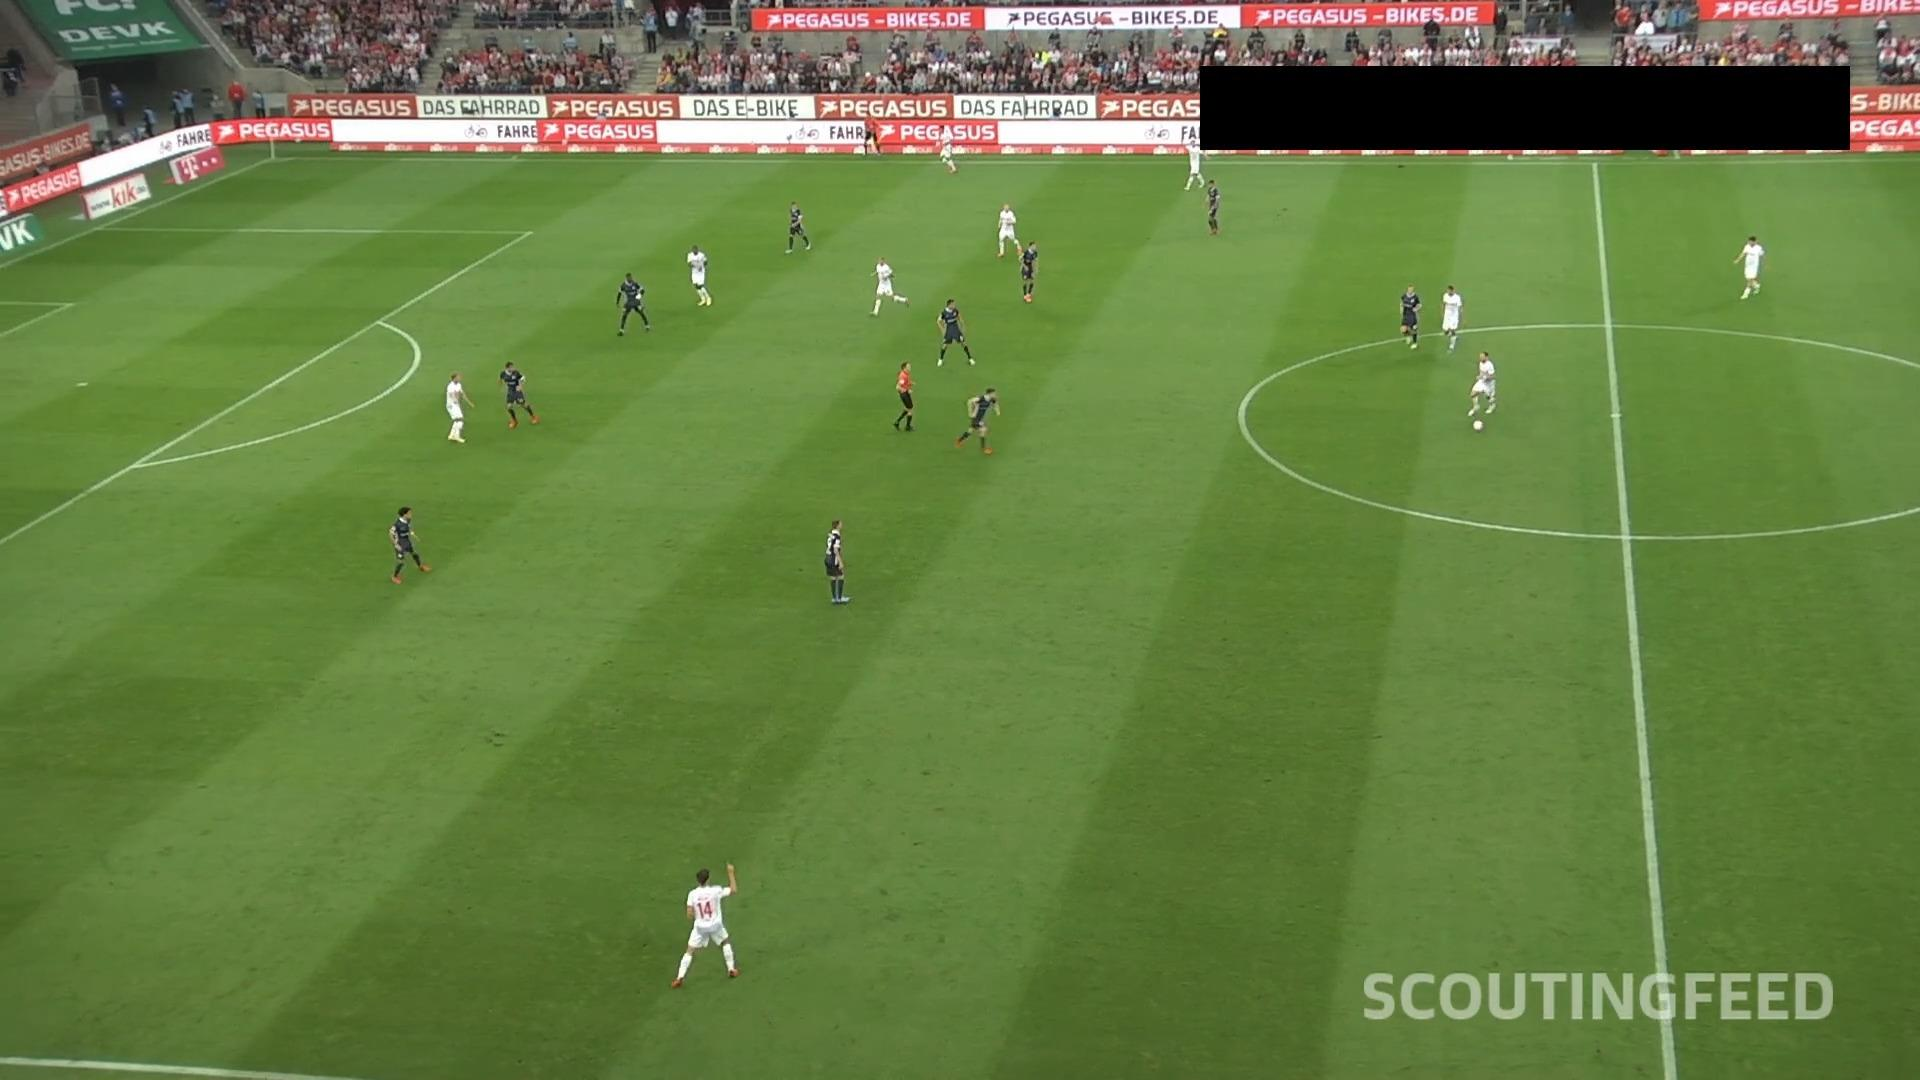ball: (1472, 419, 1485, 433)
